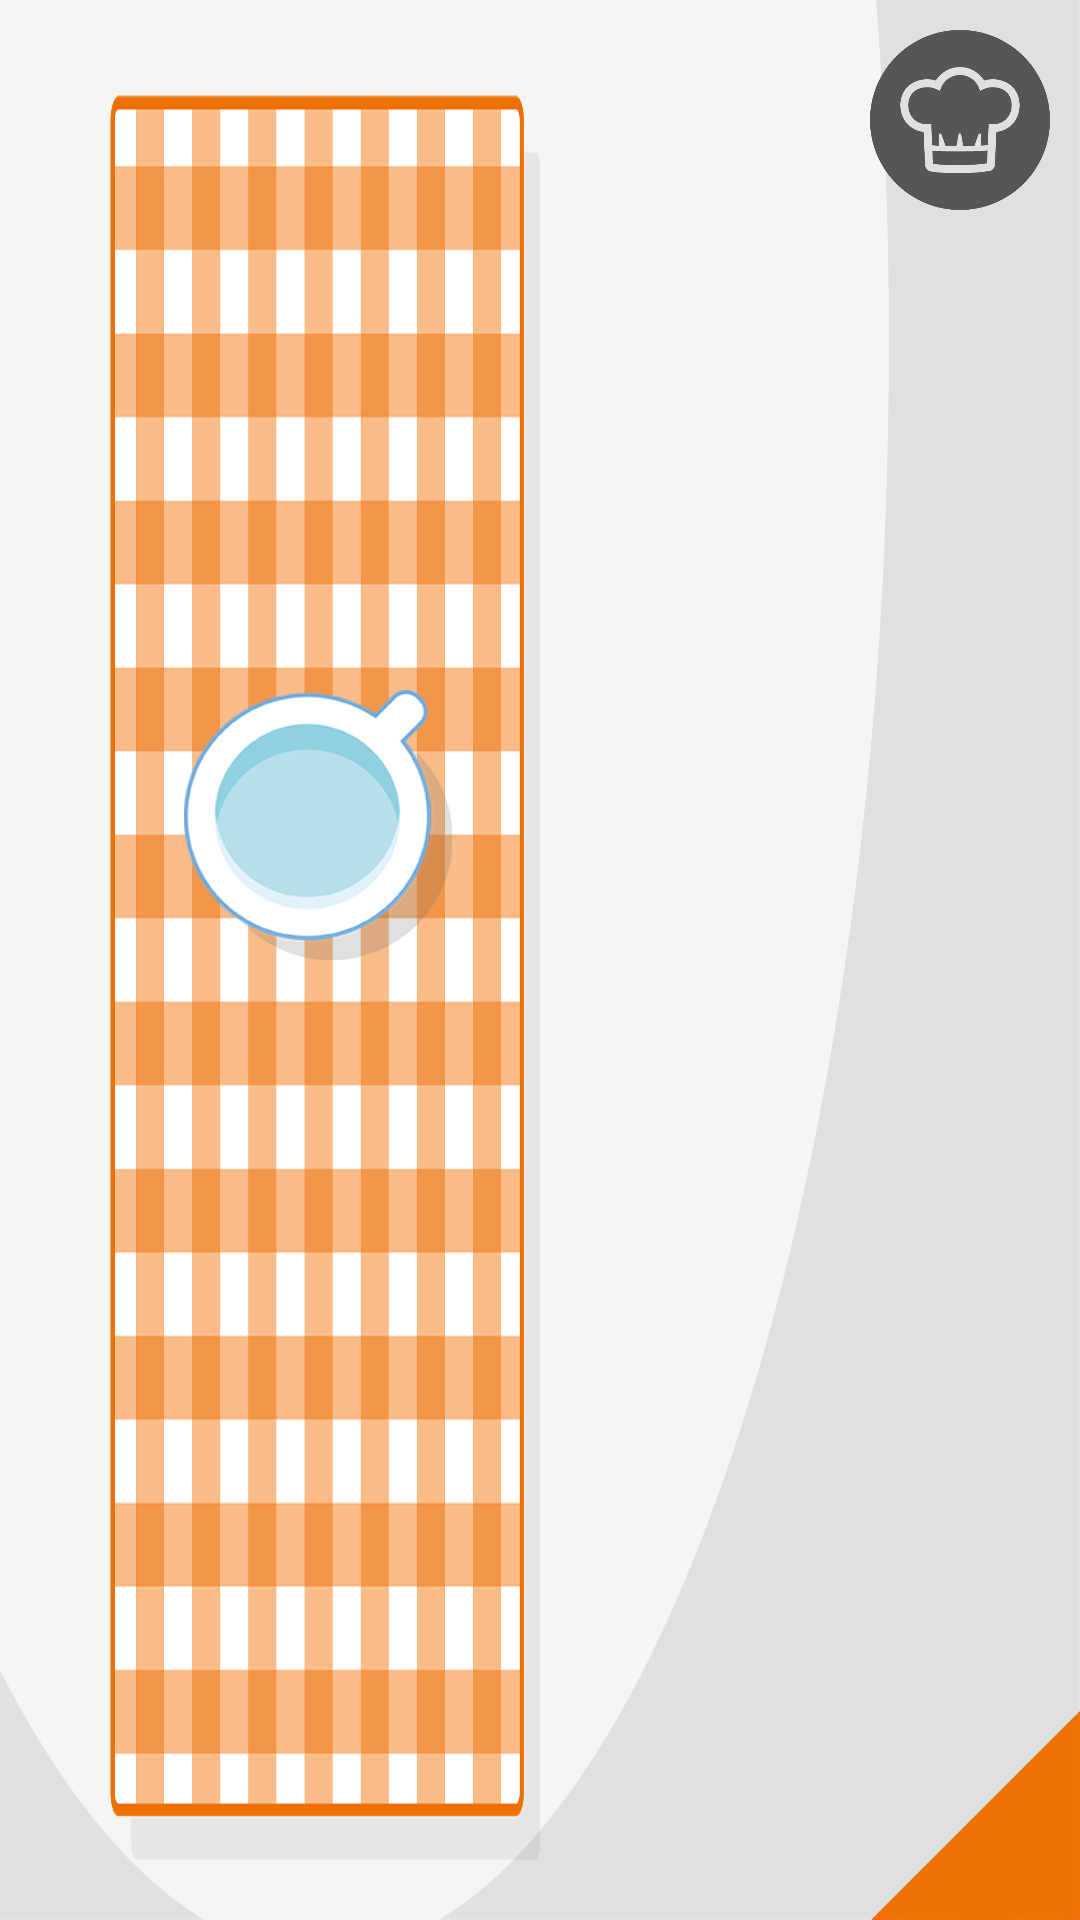

Screen size 1080px x 1920px. Icon name, then its center in pixels as [x,y]:
tazza: [318,825]
